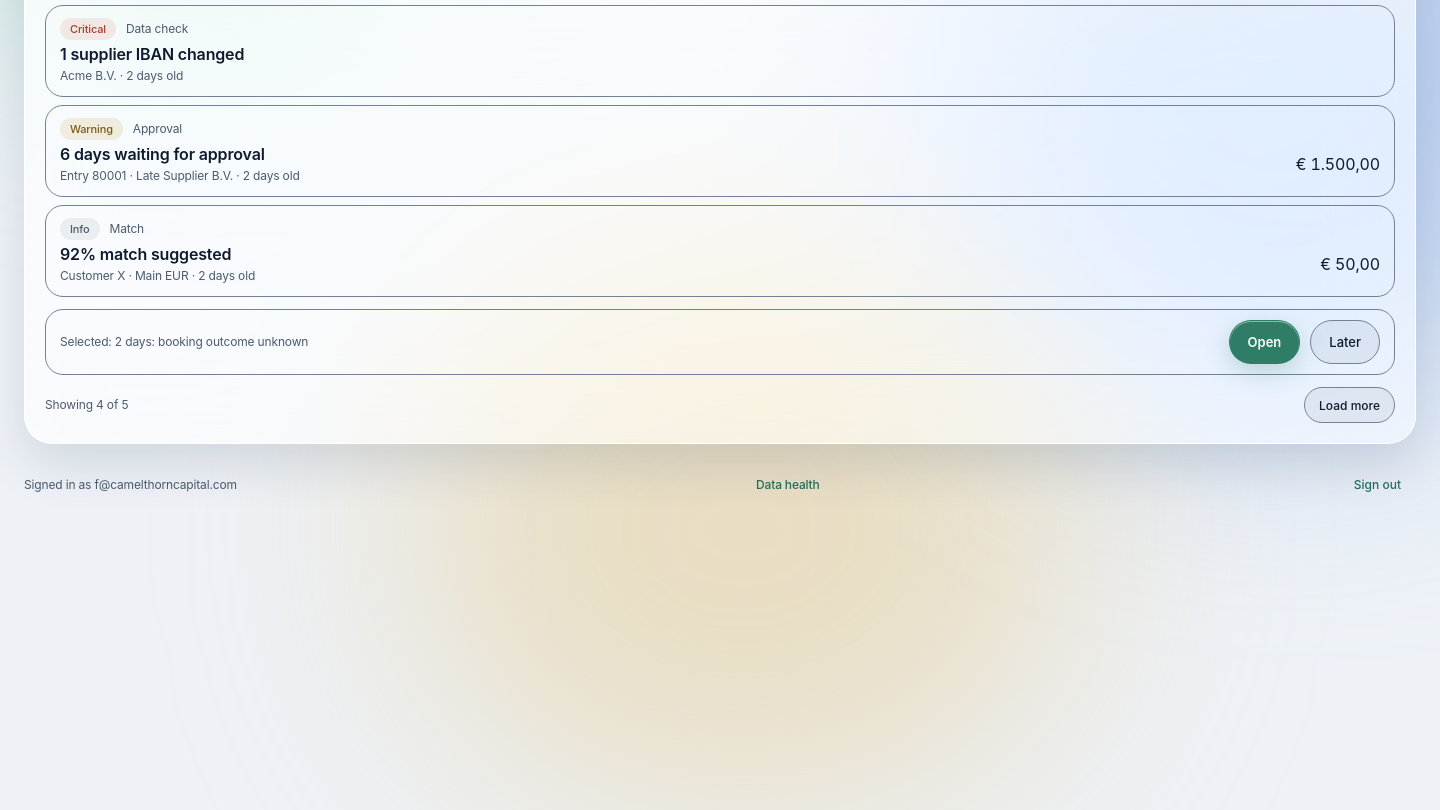
Scenario: Today queue › pages with Load more by cursor
(page scrolled)
Step 1. Click the button "Load more" → {"x": 1350, "y": 405}, box [1304, 387, 1395, 423]
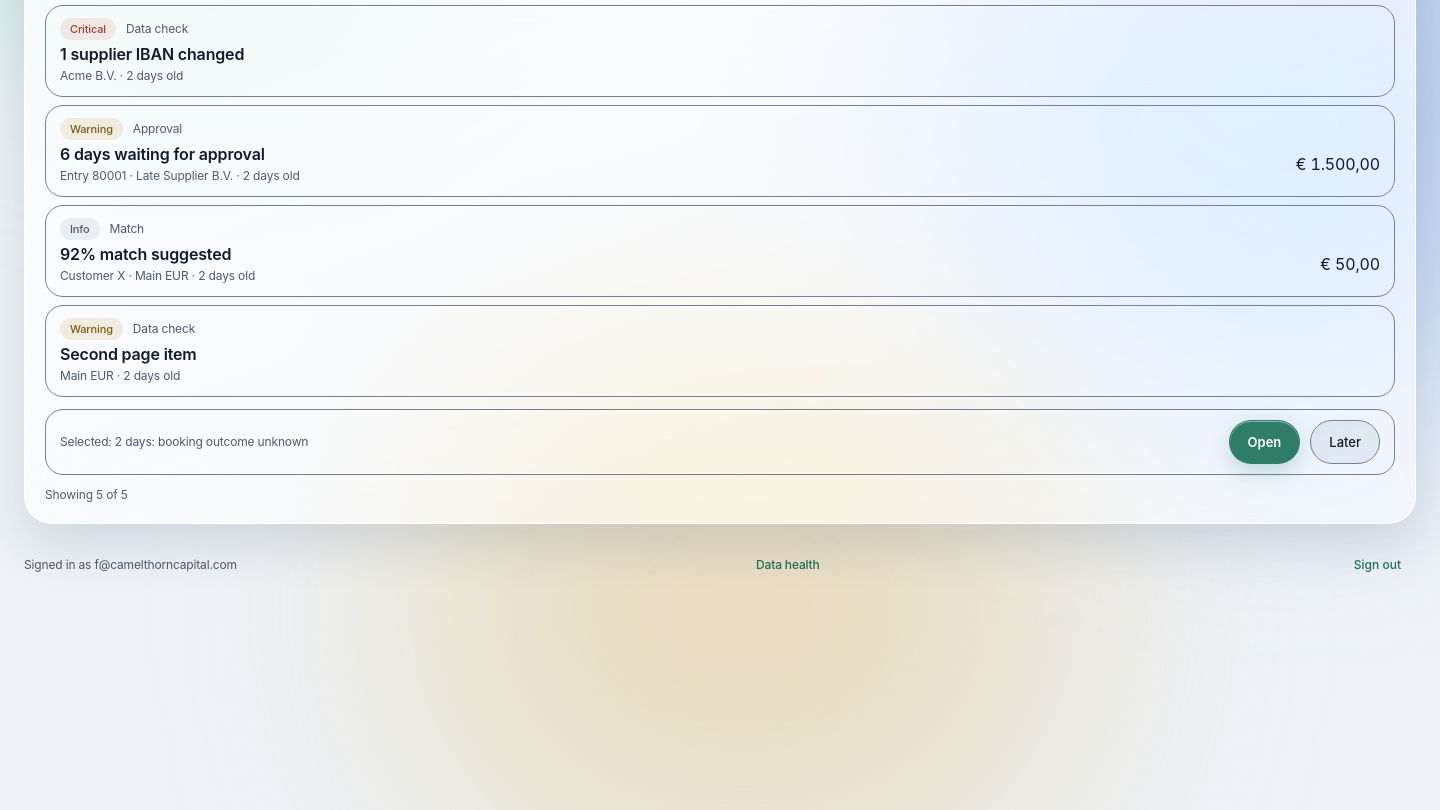
Result: the text "Second page item" is shown at [60, 344, 197, 364]
